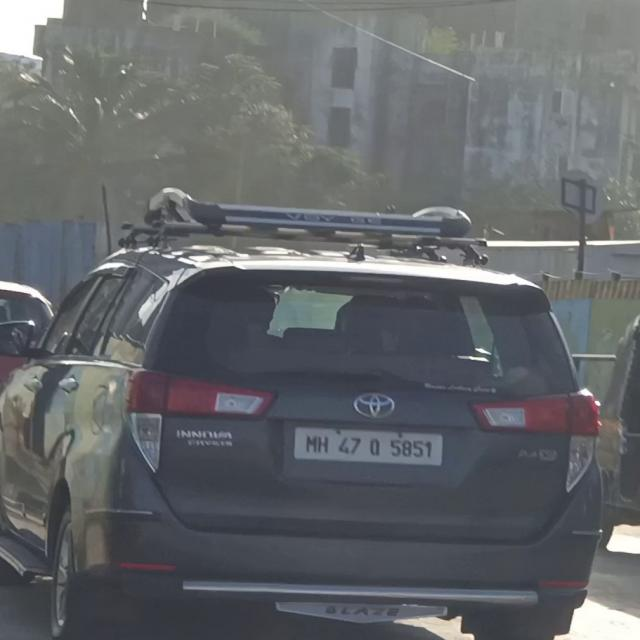Plate: (295, 427, 442, 467)
